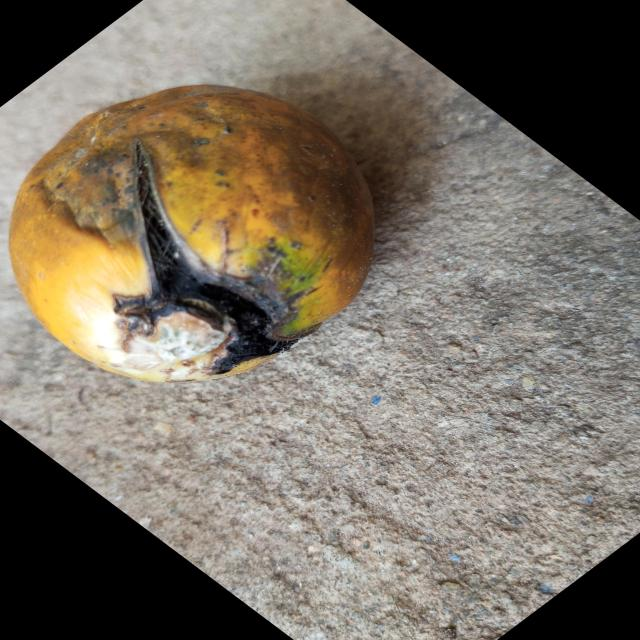damaged: (8, 84, 376, 386)
